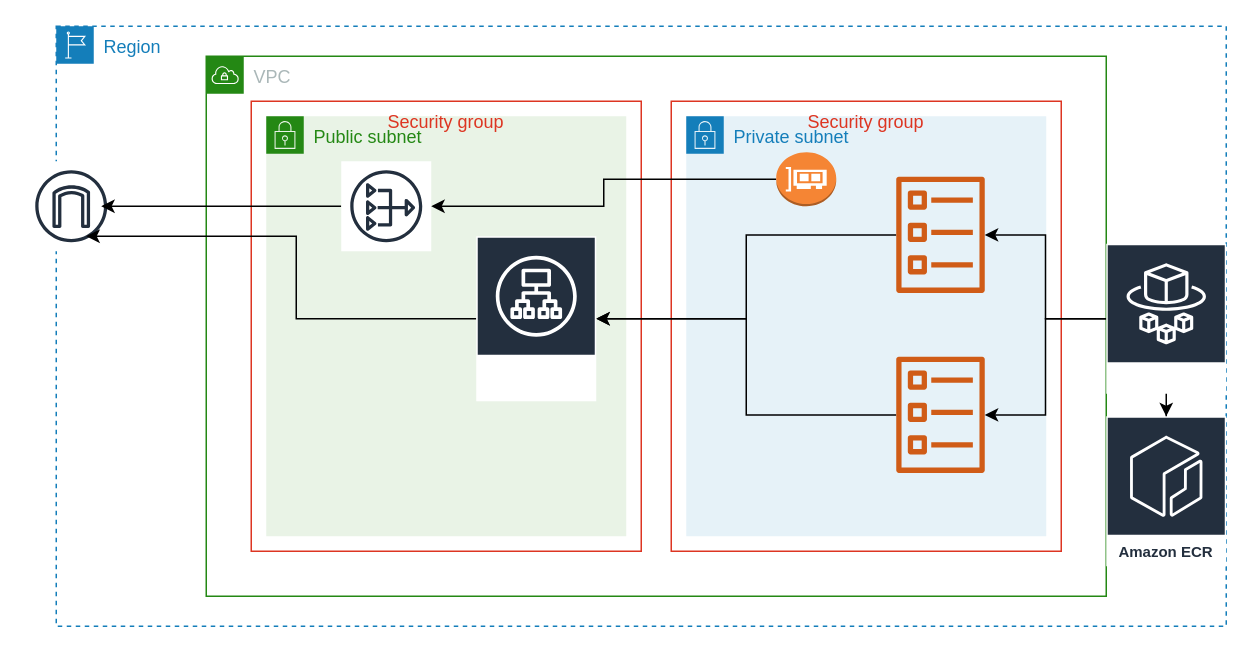
This 1253x653 diagram has some shape labels left out. The centre of each missing label's shape, as x and y in pixels:
"Application Load Balancer" belongs at pixel 535 318.
"AWS Fargate" belongs at pixel 1165 318.
"Internet gateway" belongs at pixel 70 205.
"NAT gateway" belongs at pixel 385 205.
